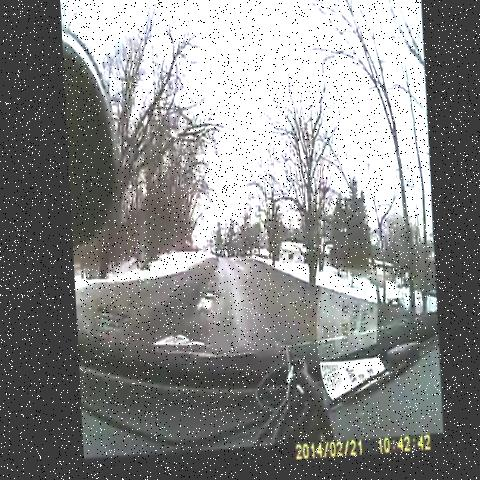pothole: (188, 275, 223, 328)
